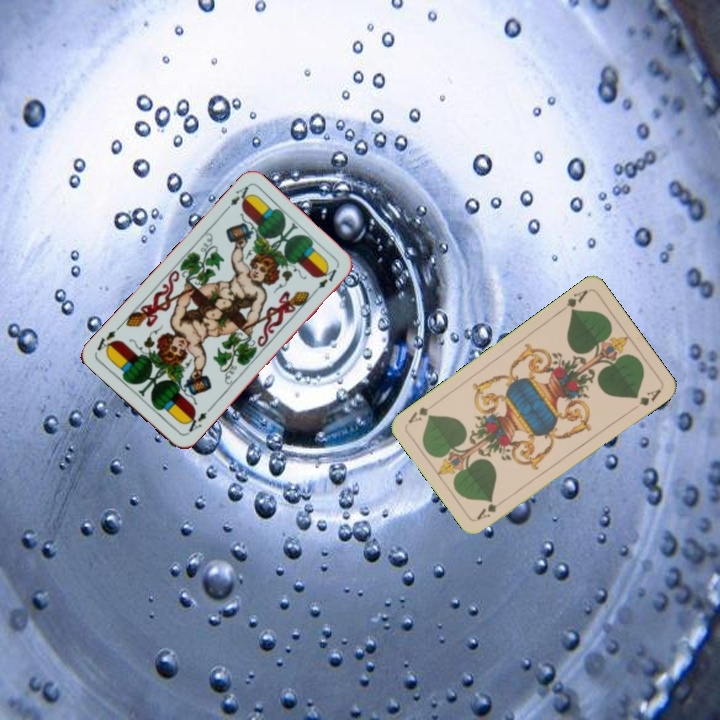EA: (220, 182, 254, 215), (181, 408, 210, 437)
GA: (555, 286, 590, 316), (473, 494, 509, 522)
